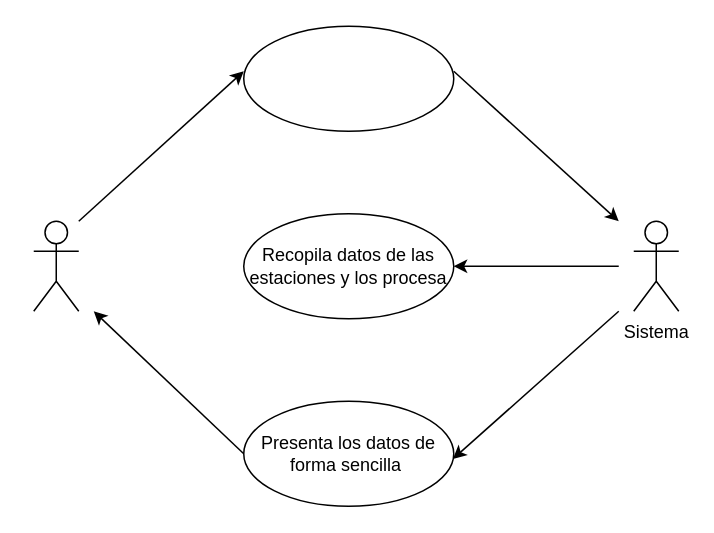
Image size: 714x533. Some labels were removed from this diagram. Here are the shapes that lost their labels. From the top down, the centre of each, then its label:
At point 348,78: "Envía petición de pronostico".
At point 55,265: "Usuario".
